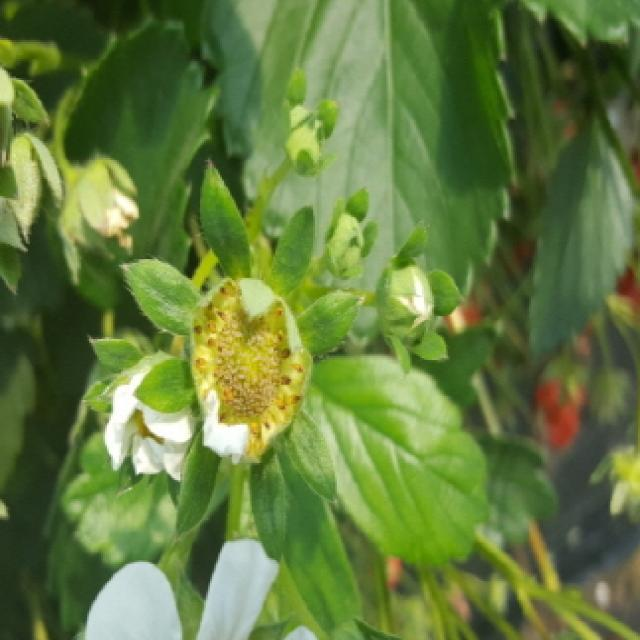Blossom Blight: (189, 278, 310, 462)
